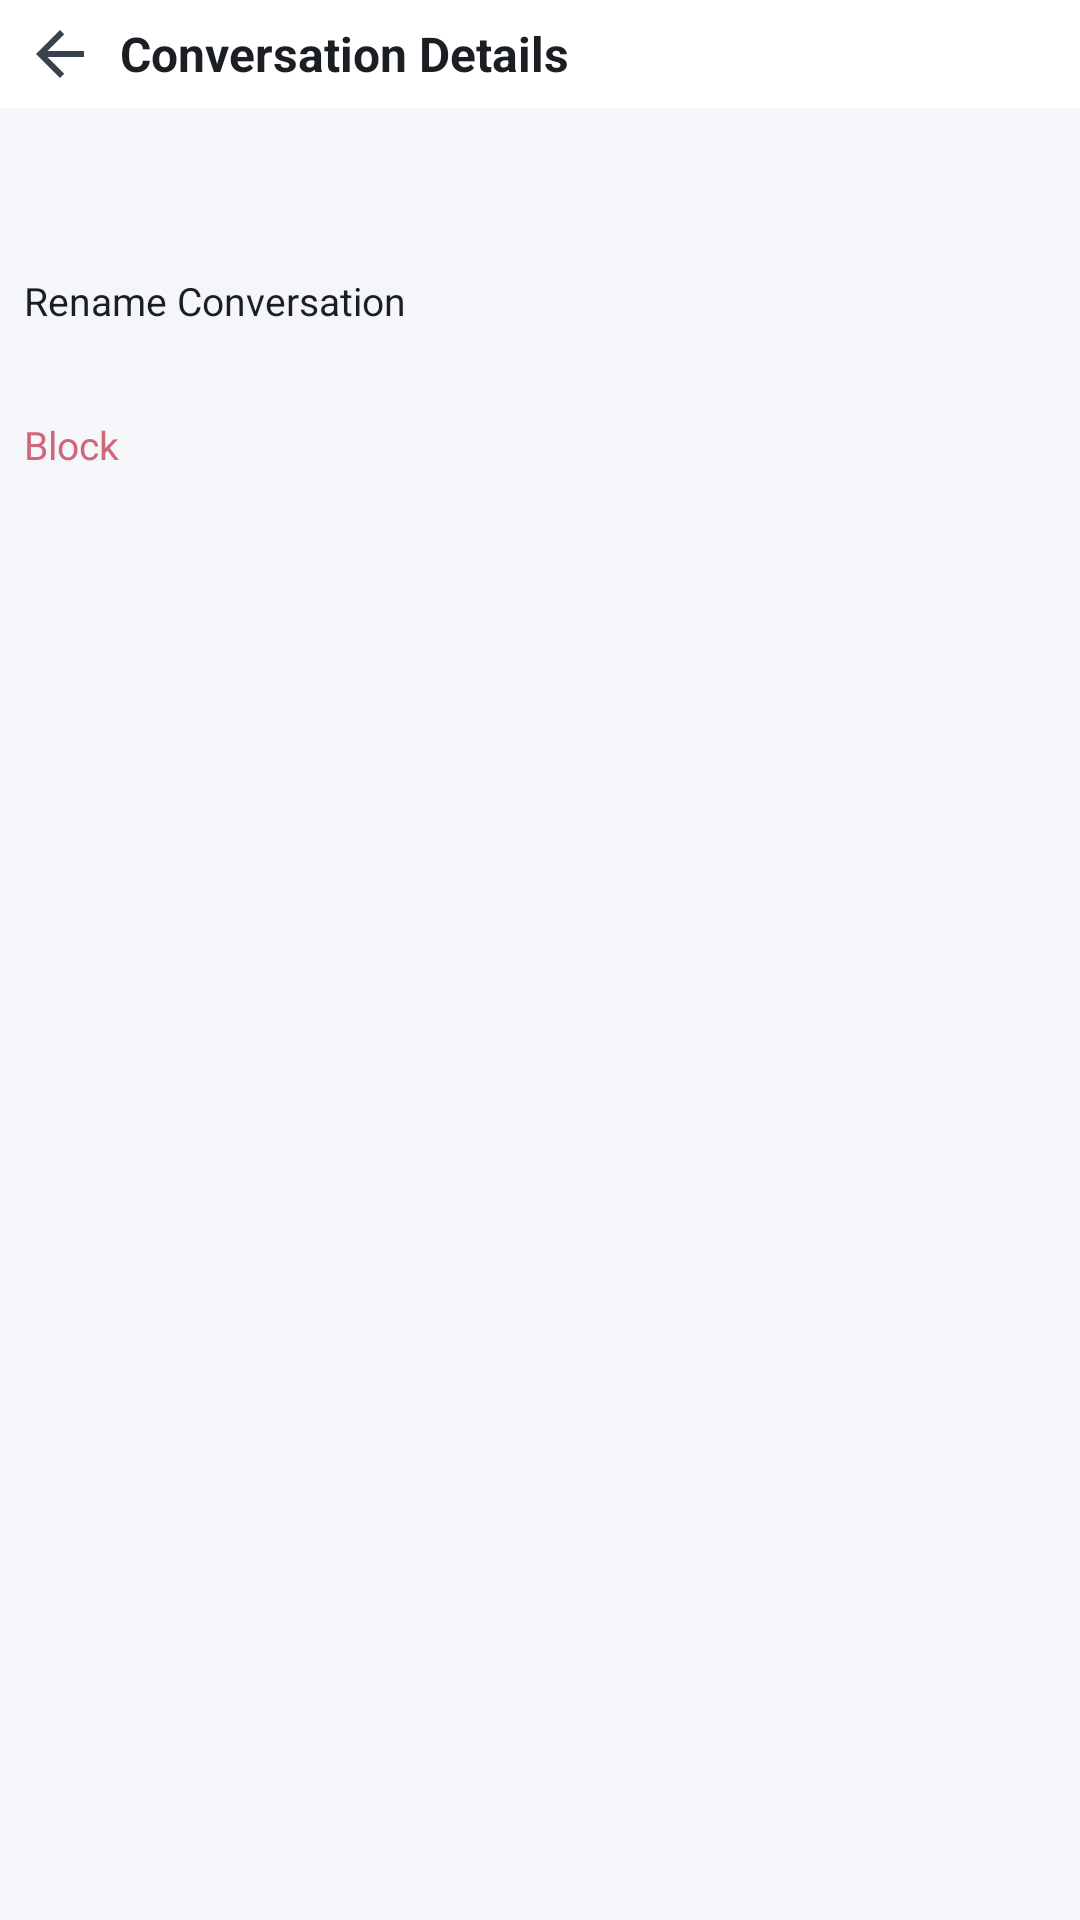

Where icons sit on this 1080*1920 app screen, as {"left": x1, "top": y1, "right": x2, "bottom": y2}:
Back: {"left": 36, "top": 30, "right": 84, "bottom": 78}
